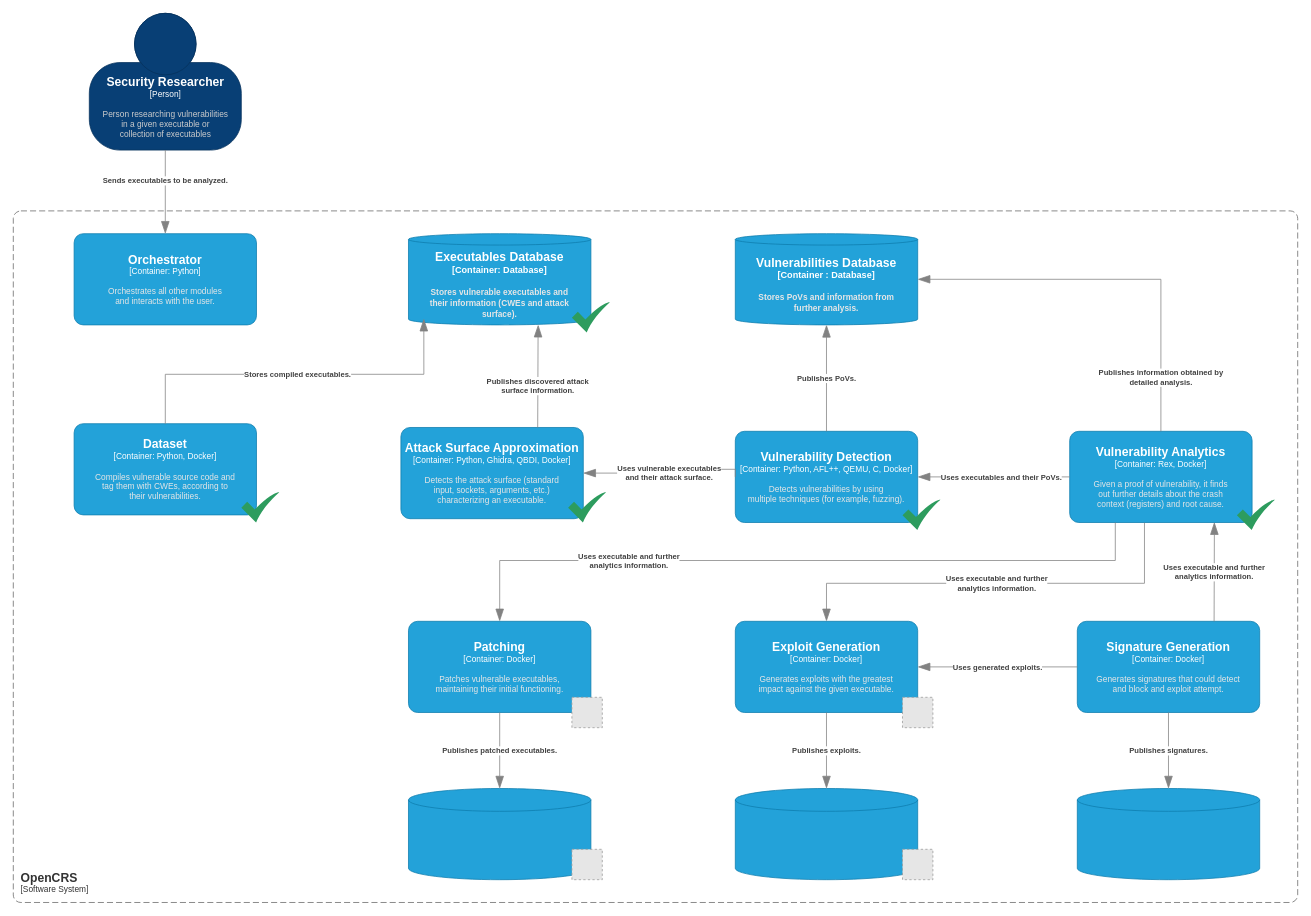
Some shapes in this 1311 by 916 pixel diagram are drawn without their labels. Grey dashed boxes stand in for pictures. The shapes that lost their labels are listed below. From the top down, each one's box as (x1, y1, x2, y2) in pixels, then its label:
(408, 788, 591, 880): Patched Executables Database [Container: Database] Stores patched executables.
(735, 788, 918, 880): Exploit Database [Container: Database] Stores generated exploits.
(1077, 788, 1260, 880): Signatures Database [Container: Database] Stores generated exploit signatures.
